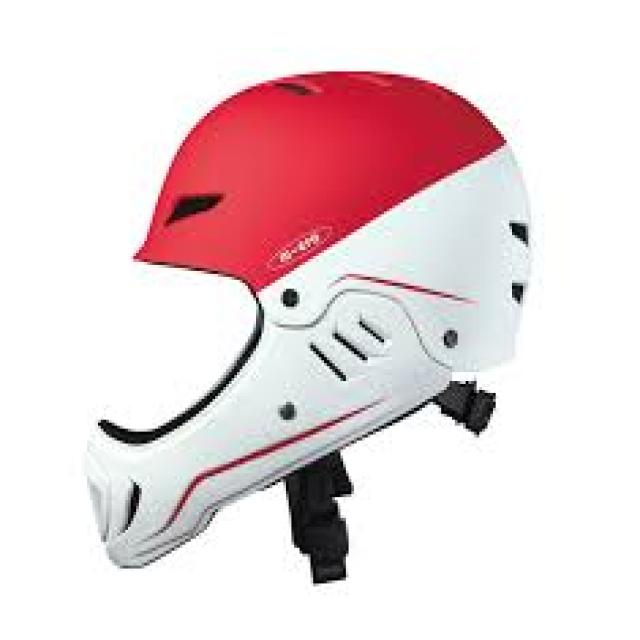Helmet: (70, 54, 556, 585)
